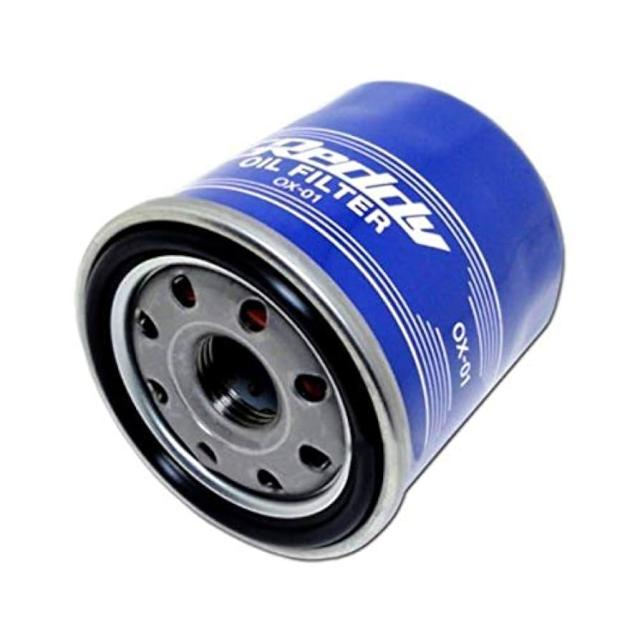oil_filter: (81, 61, 586, 582)
